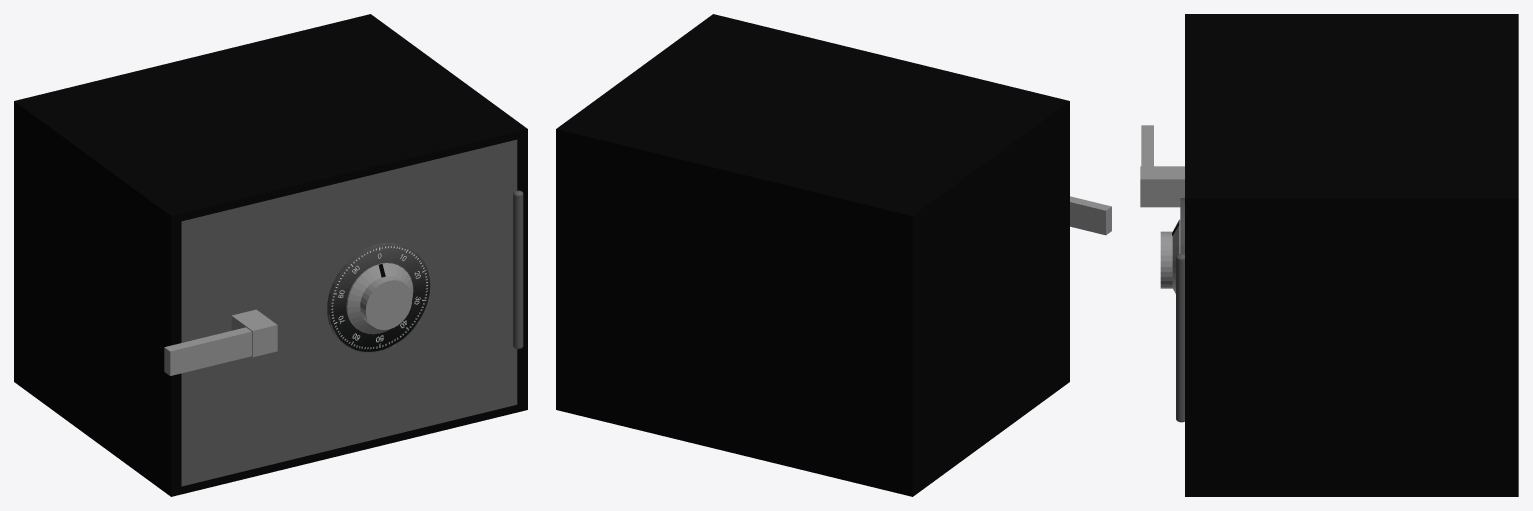
The model's file is Gun Safe.fbx.
The picture shows the model from 3 angles, left to right: view 1: azimuth 30°, elevation 25°; view 2: azimuth 150°, elevation 25°; view 3: azimuth 270°, elevation 25°; orthographic projection. The views are drawn at different scales.
Visible parts, largest first — view 1: Safe Body, Safe Door, Safe Dial Base, Safe Dial, Safe Handle.001, Safe Hinge, Safe Handle; view 2: Safe Body, Safe Handle.001; view 3: Safe Body, Safe Handle, Safe Hinge, Safe Dial, Safe Handle.001.
Part boxes in pixels (x1=…): Safe Body: x1=14, y1=14, x2=527, y2=496; Safe Door: x1=181, y1=139, x2=517, y2=486; Safe Dial Base: x1=327, y1=242, x2=430, y2=352; Safe Dial: x1=346, y1=263, x2=413, y2=334; Safe Handle.001: x1=164, y1=327, x2=251, y2=375; Safe Hinge: x1=513, y1=190, x2=523, y2=349; Safe Handle: x1=231, y1=309, x2=277, y2=357; Safe Body: x1=556, y1=14, x2=1069, y2=496; Safe Handle.001: x1=1070, y1=196, x2=1111, y2=235; Safe Body: x1=1185, y1=14, x2=1518, y2=496; Safe Handle: x1=1140, y1=166, x2=1184, y2=207; Safe Hinge: x1=1176, y1=254, x2=1184, y2=422; Safe Dial: x1=1160, y1=219, x2=1180, y2=293; Safe Handle.001: x1=1141, y1=125, x2=1153, y2=166.
Bounding box in the file's own units: 292 × 207 × 238.
